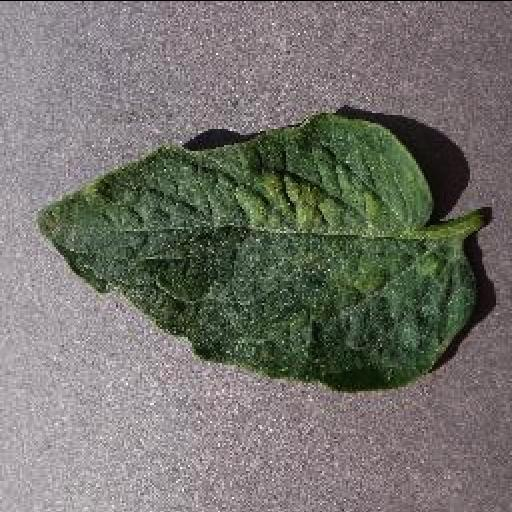disease_tomato: (36, 114, 480, 394)
